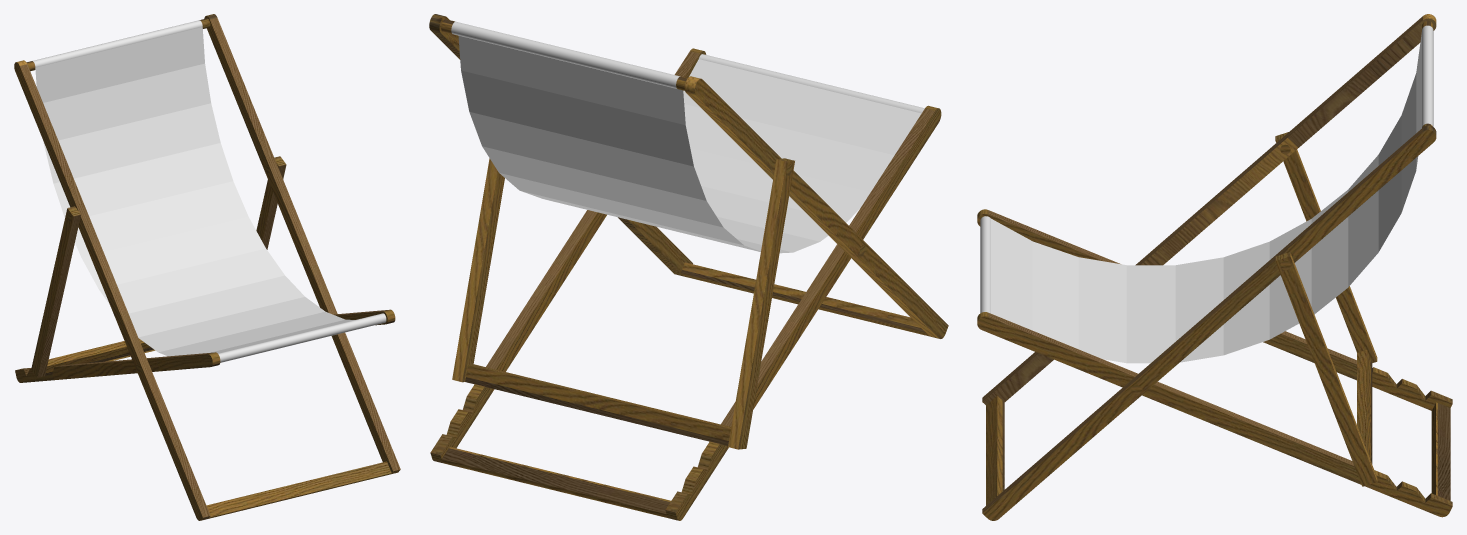
Rendered from tumbona-teca.glb.
The picture shows the model from 3 angles, left to right: view 1: azimuth 30°, elevation 25°; view 2: azimuth 150°, elevation 25°; view 3: azimuth 270°, elevation 25°; orthographic projection. The views are drawn at different scales.
Size of the model in its own units: 0.56 by 0.8189 by 0.9011.
Materials: 3 (2 with a texture image).
